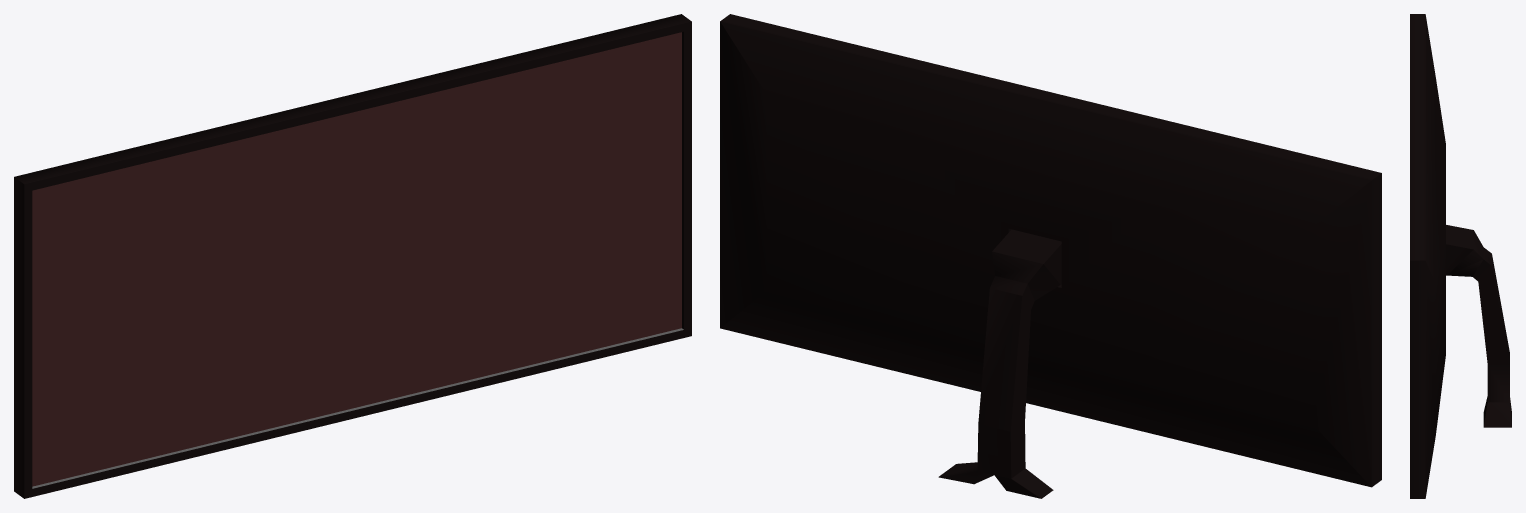
3 renders of one model, left to right at view 1: azimuth 30°, elevation 25°; view 2: azimuth 150°, elevation 25°; view 3: azimuth 270°, elevation 25°, orthographic. The views are drawn at different scales.
Parts seen in each view (by area): view 1: Empty_Mesh_1, Empty_Mesh; view 2: Empty_Mesh; view 3: Empty_Mesh.
Part boxes in pixels (box(x1,y1,x2,y2)): Empty_Mesh_1: box(32, 32, 681, 486); Empty_Mesh: box(14, 14, 691, 498); Empty_Mesh: box(720, 14, 1381, 498); Empty_Mesh: box(1410, 14, 1511, 498).
Bounding box in the file's own units: 1710 × 874 × 299.
